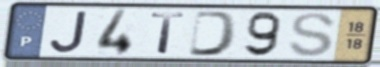4: (94, 7, 136, 58)
9: (241, 10, 283, 58)
D: (186, 9, 240, 58)
J: (48, 9, 91, 54)
S: (286, 11, 338, 59)
T: (149, 11, 188, 55)
